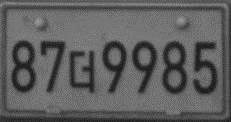5: (192, 39, 218, 95)
7: (39, 39, 67, 92)
8: (160, 39, 187, 94), (10, 38, 36, 92)
9: (131, 39, 158, 96), (101, 39, 127, 94)
더: (68, 48, 96, 95)
